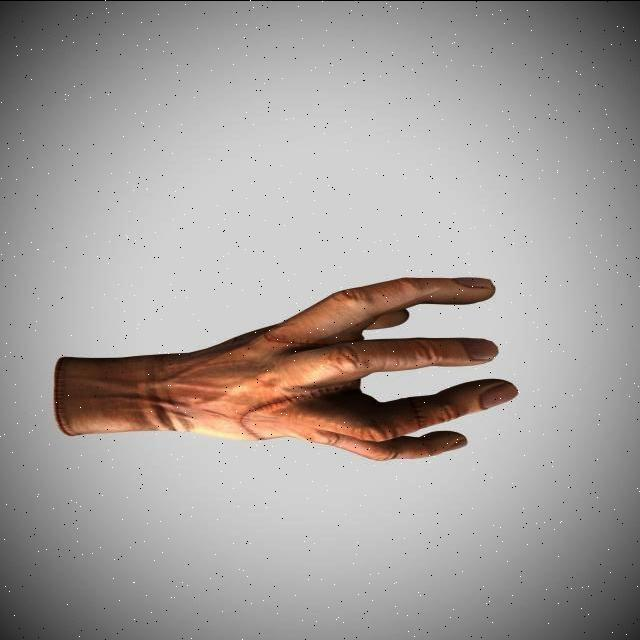no_apron: (246, 246, 548, 480)
